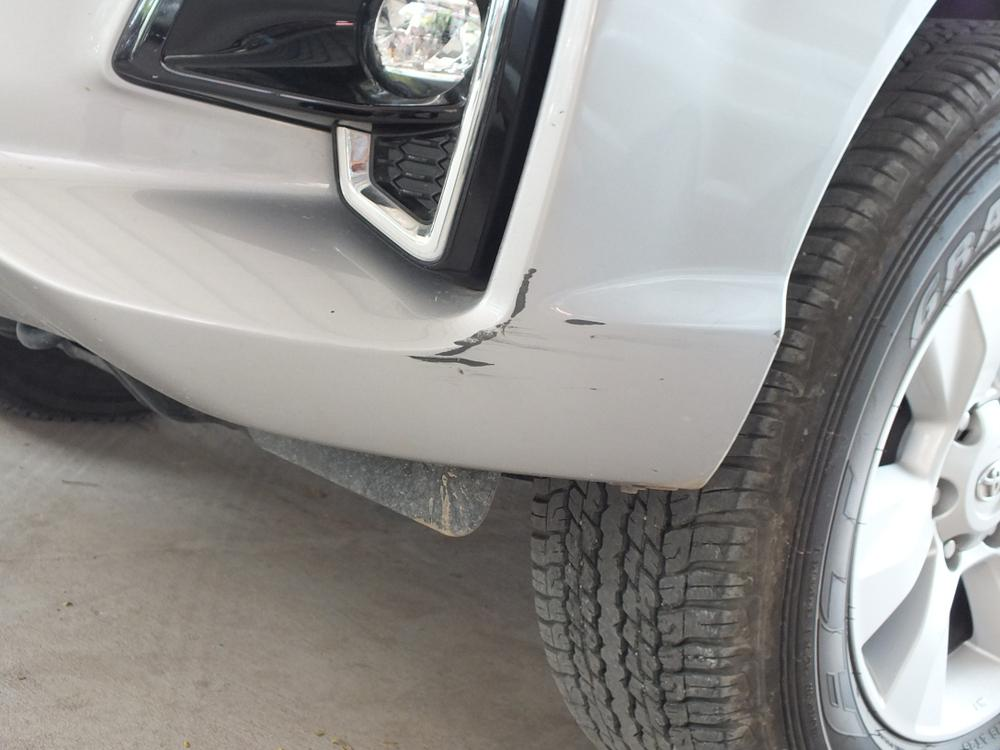scratch: (405, 268, 621, 375)
